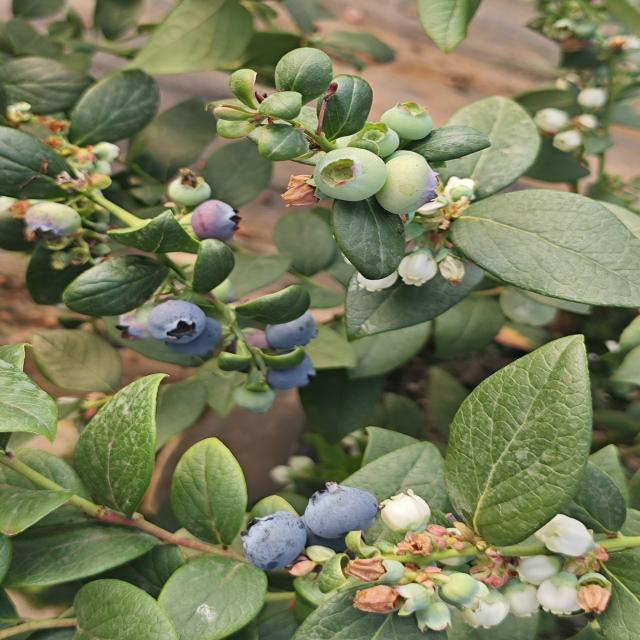ripe: (230, 507, 317, 576), (298, 480, 391, 540), (142, 294, 214, 346), (255, 304, 324, 356), (160, 315, 230, 365), (184, 199, 245, 249), (261, 350, 326, 395)
